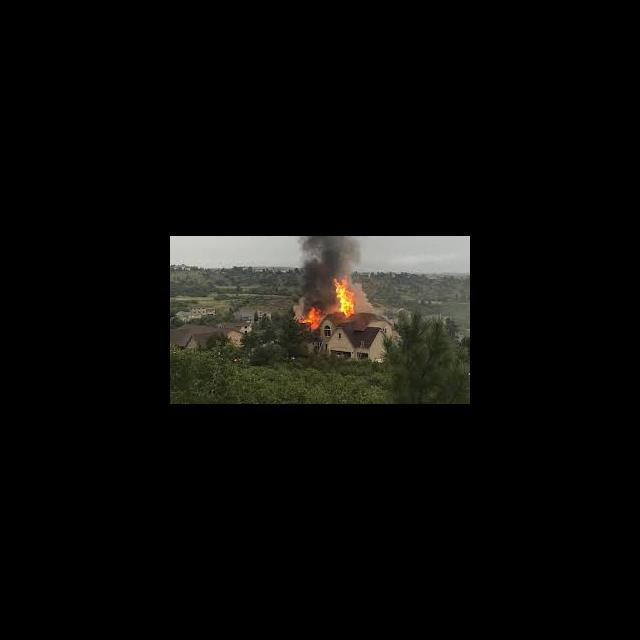Fire: (330, 277, 358, 319), (298, 298, 327, 331)
Smoke: (298, 236, 362, 276)
